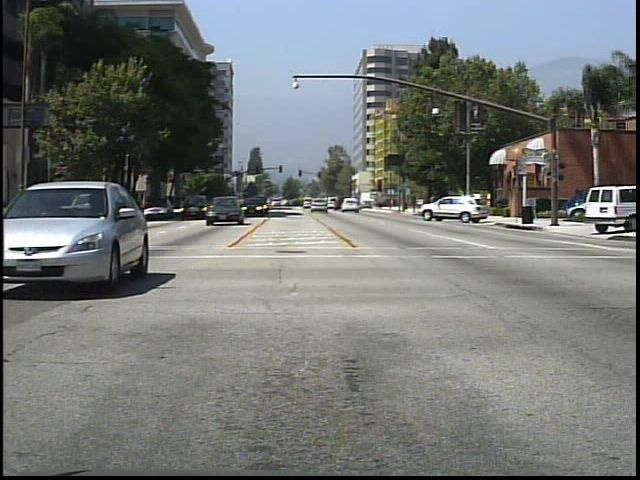person: (447, 188, 462, 220), (425, 187, 441, 213)
